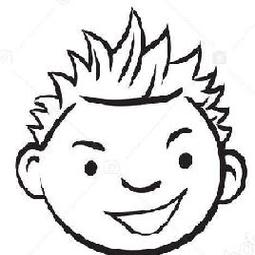ear: (14, 140, 52, 205), (219, 148, 253, 207)
frowning_eyebrow: (65, 131, 108, 155), (162, 123, 201, 149)
nose: (114, 174, 171, 196)
open_mouth: (107, 186, 190, 238)
small_eye: (172, 151, 201, 168), (80, 156, 101, 175)
